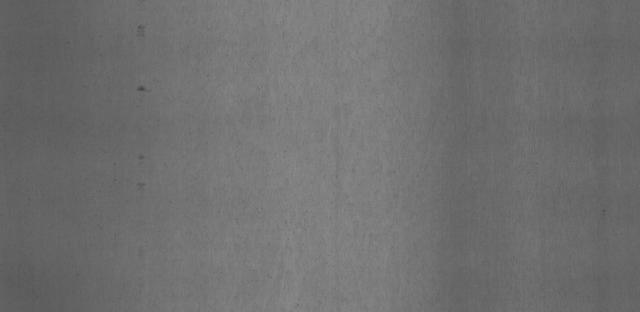oil_spot: (135, 19, 152, 45), (132, 152, 148, 168), (133, 85, 149, 99), (136, 177, 146, 196)
